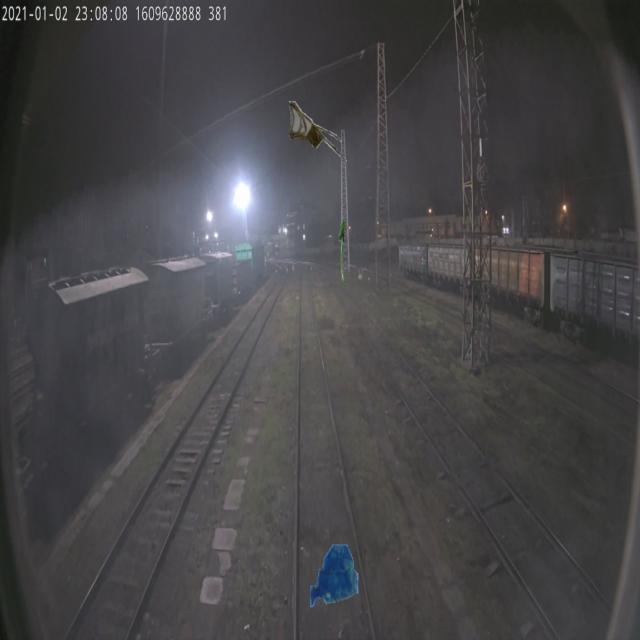floating object: (289, 101, 348, 166), (338, 220, 346, 284)
plastic bag: (310, 544, 361, 608)
